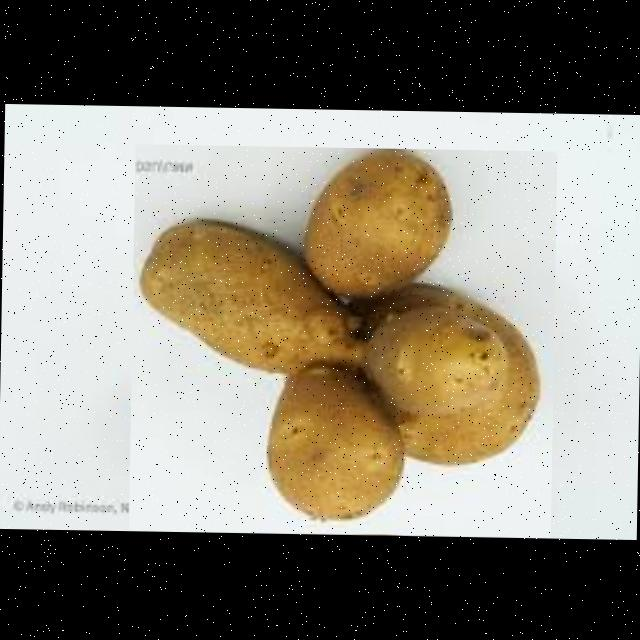Damaged potato: (127, 143, 556, 536)
